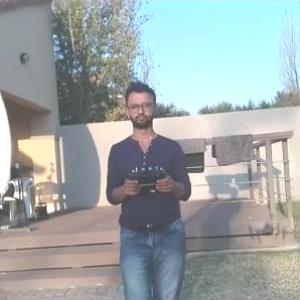follow: (101, 78, 195, 299)
